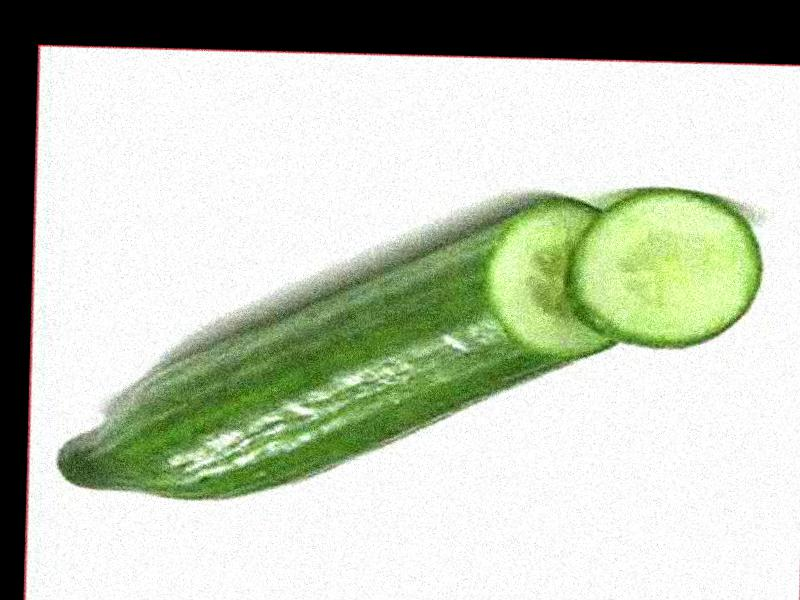Cucumber: (55, 184, 629, 509)
